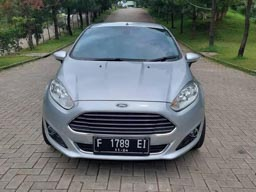plat: (93, 137, 149, 148)
